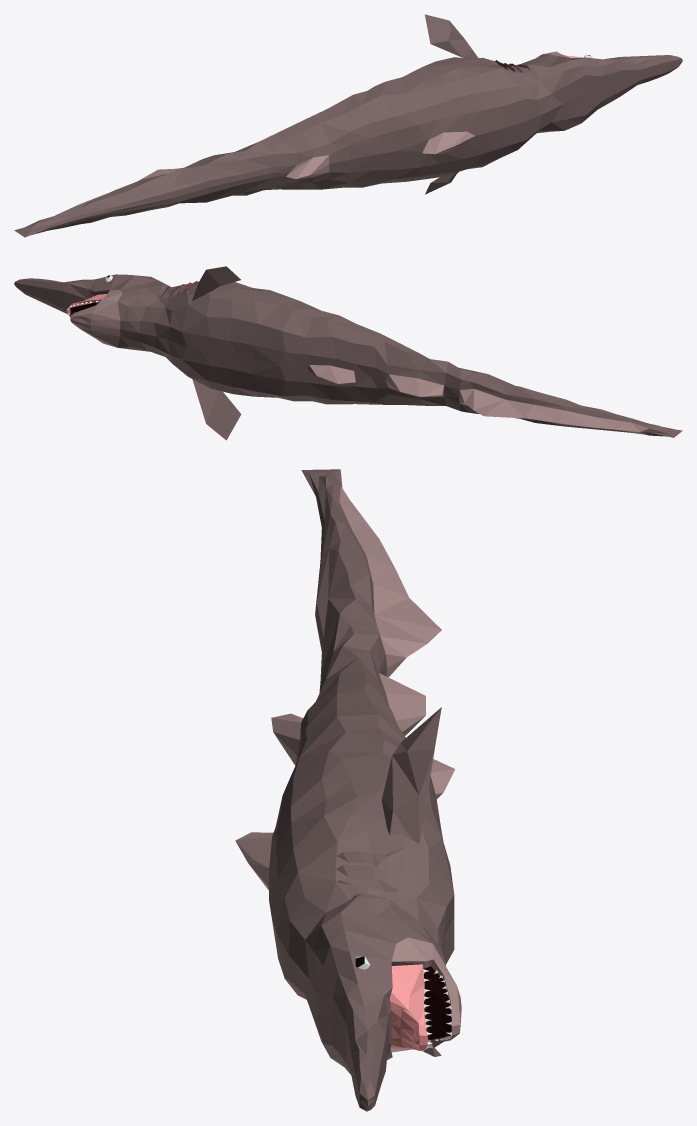
The model's file is GoblinShark.glb.
The picture shows the model from 3 angles, top to bottom: view 1: azimuth 30°, elevation 25°; view 2: azimuth 150°, elevation 25°; view 3: azimuth 270°, elevation 25°; orthographic projection. The views are drawn at different scales.
Visible parts, largest first — view 1: GoblinShark; view 2: GoblinShark; view 3: GoblinShark.
Part boxes in pixels (<box>): GoblinShark: <box>14,14,682,237</box>; GoblinShark: <box>14,266,682,440</box>; GoblinShark: <box>235,469,461,1111</box>.
Bounding box in the file's own units: 3.33 × 0.8501 × 0.5004.
1 material, 1 textured.
